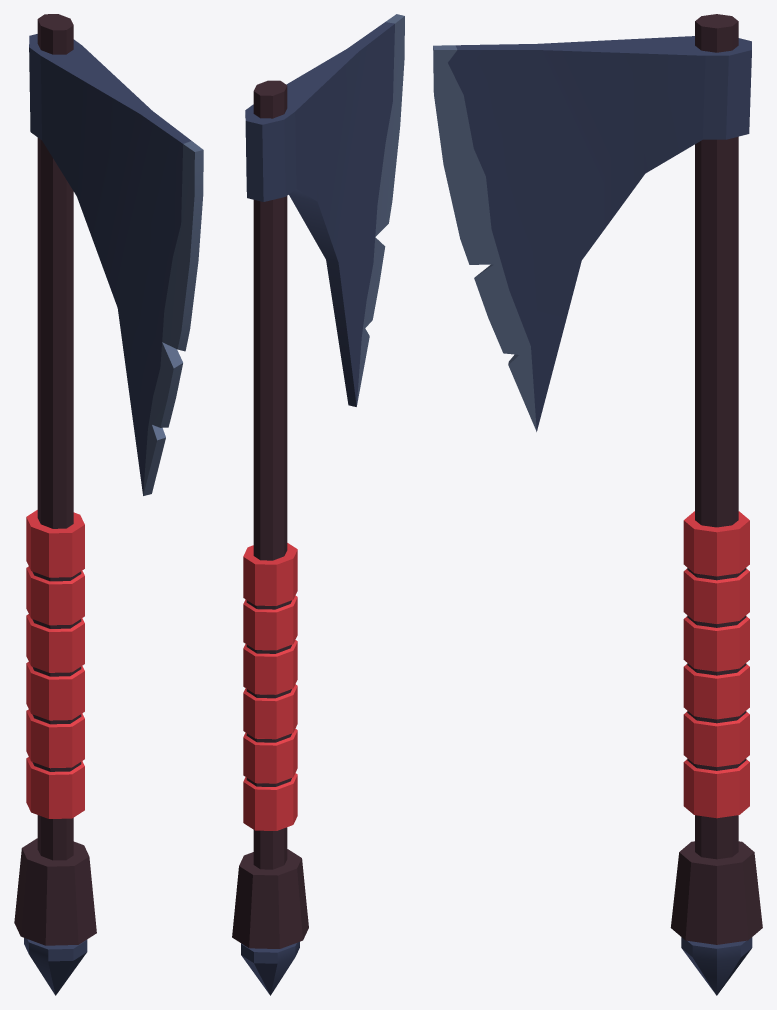
Rendered from Battle_Axe_02.fbx.
3 views of the same model, side by side, from view 1: azimuth 30°, elevation 25°; view 2: azimuth 150°, elevation 25°; view 3: azimuth 270°, elevation 25° (orthographic). The views are drawn at different scales.
Parts seen in each view (by area): view 1: Battle Axe 02; view 2: Battle Axe 02; view 3: Battle Axe 02.
Part boxes in pixels (box(x1,y1,x2,y2)): Battle Axe 02: box(14, 14, 203, 995); Battle Axe 02: box(232, 14, 404, 995); Battle Axe 02: box(433, 14, 762, 995).
Size of the model in its own units: 7.89 by 105 by 32.24.
